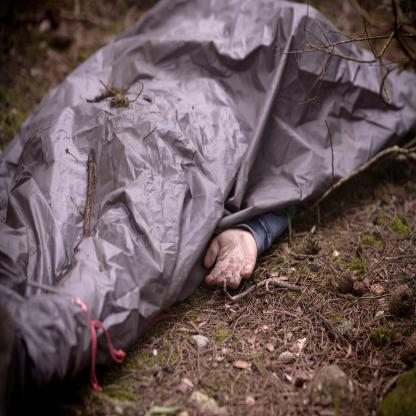hand: (189, 208, 279, 311)
